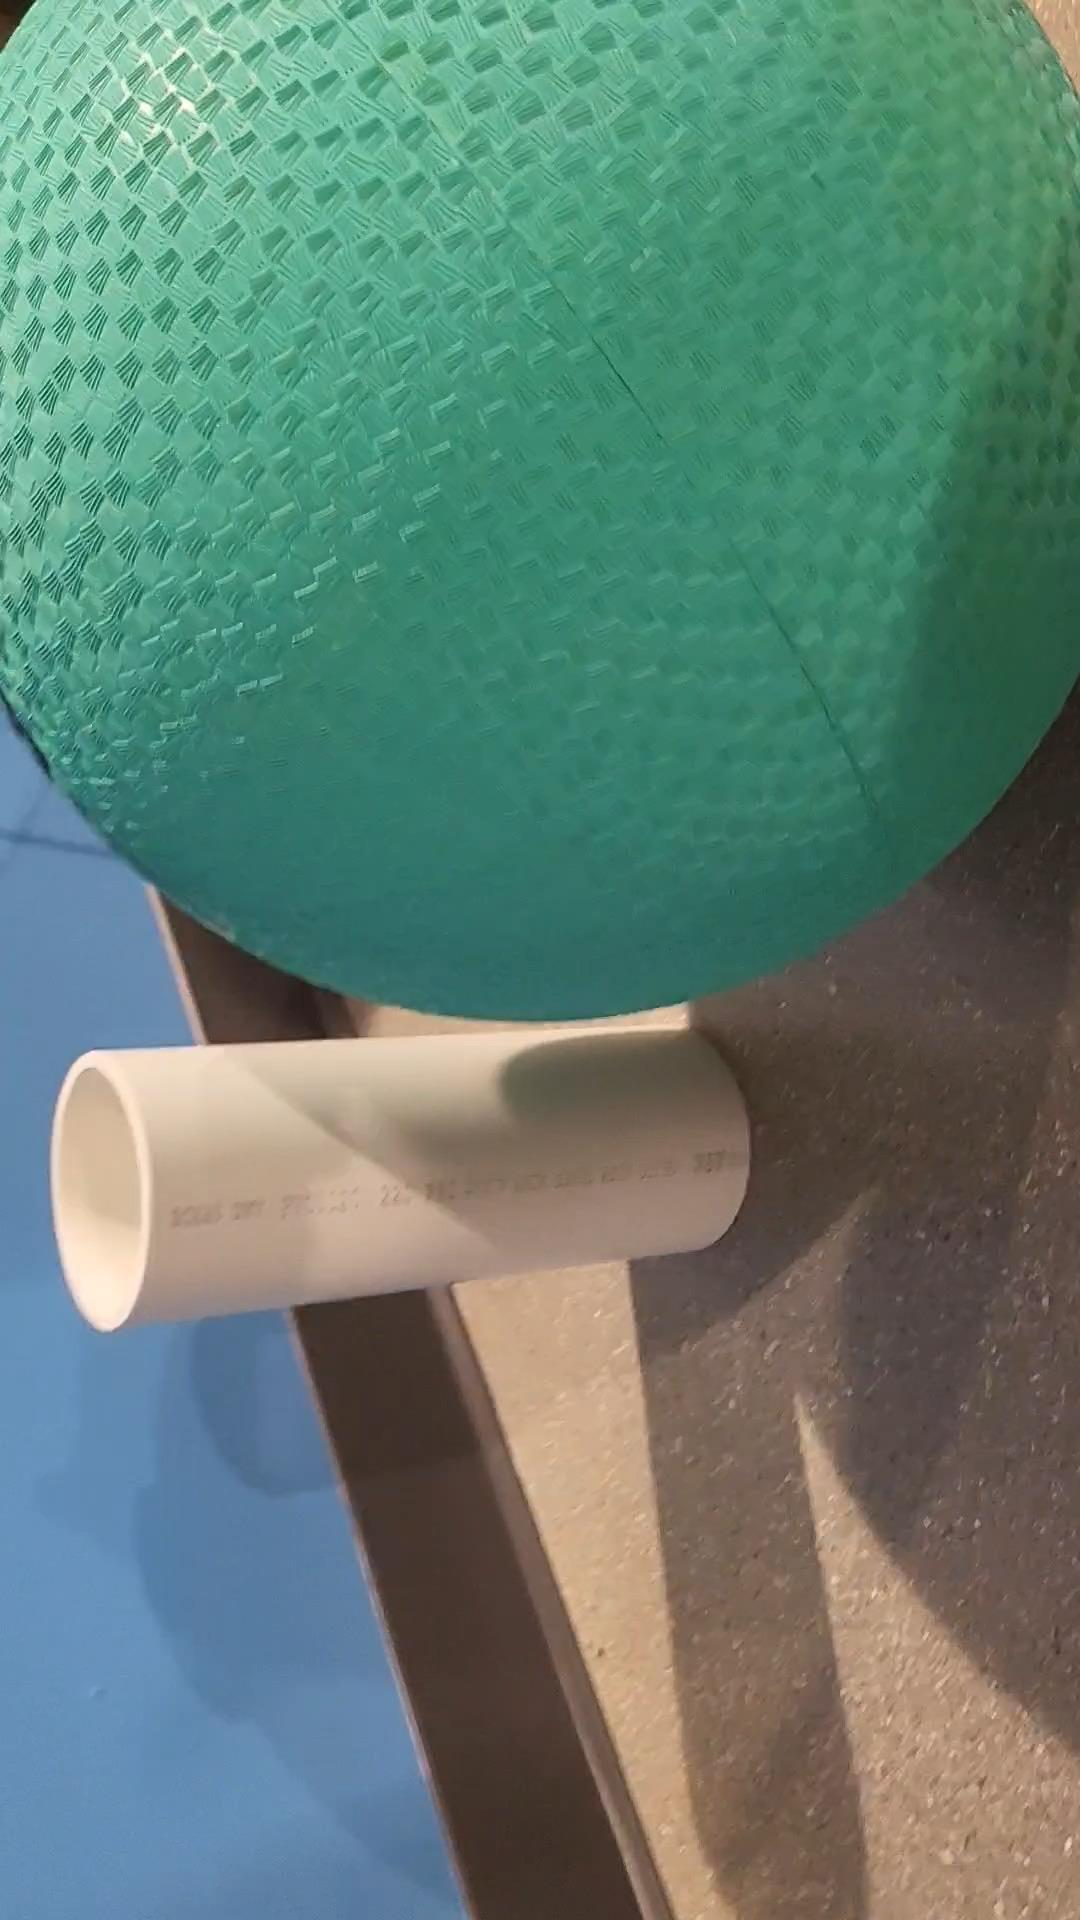algae: (0, 0, 1080, 1018)
coral: (55, 1035, 750, 1331)
